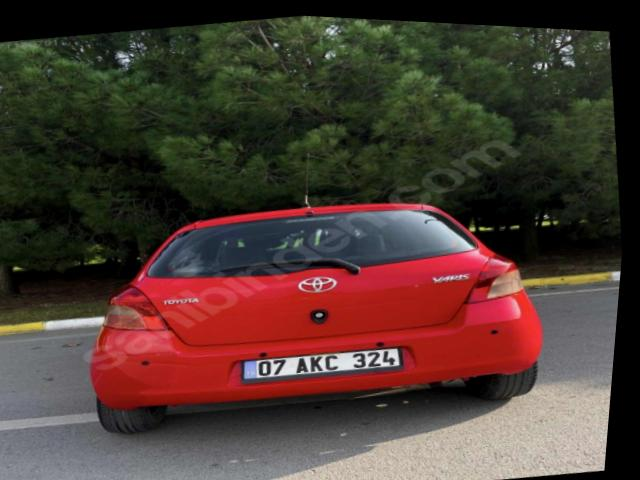plaka: (242, 348, 403, 383)
